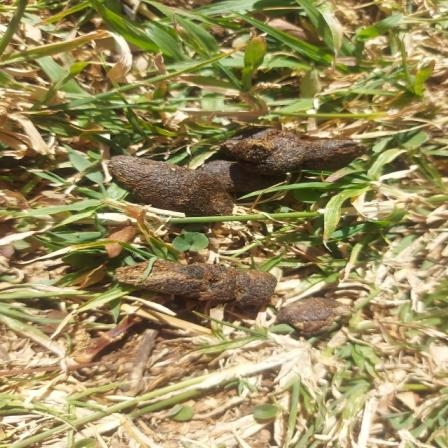dog-poop: (105, 246, 360, 338), (97, 122, 358, 206)
